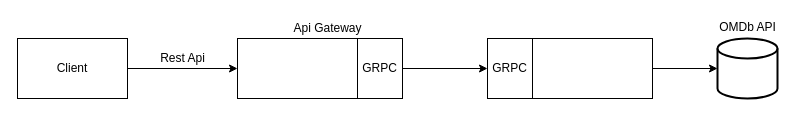
The diagram is 800 pixels wide and 116 high, and some of its shapes have lost their labels. Each missing label, with the box of its shape:
Gateway Routing: (236, 38, 358, 98)
Service Movie: (532, 38, 652, 98)
